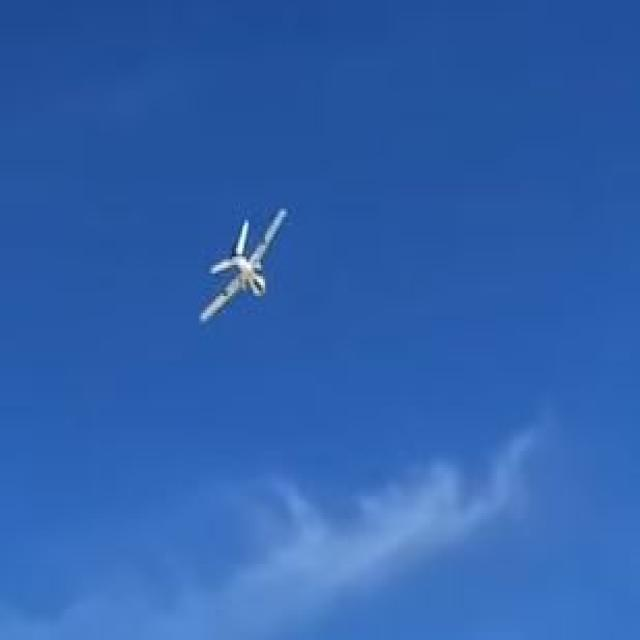iha: (230, 230, 258, 285)
